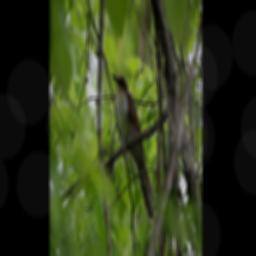Cuckoo: (111, 71, 157, 223)
